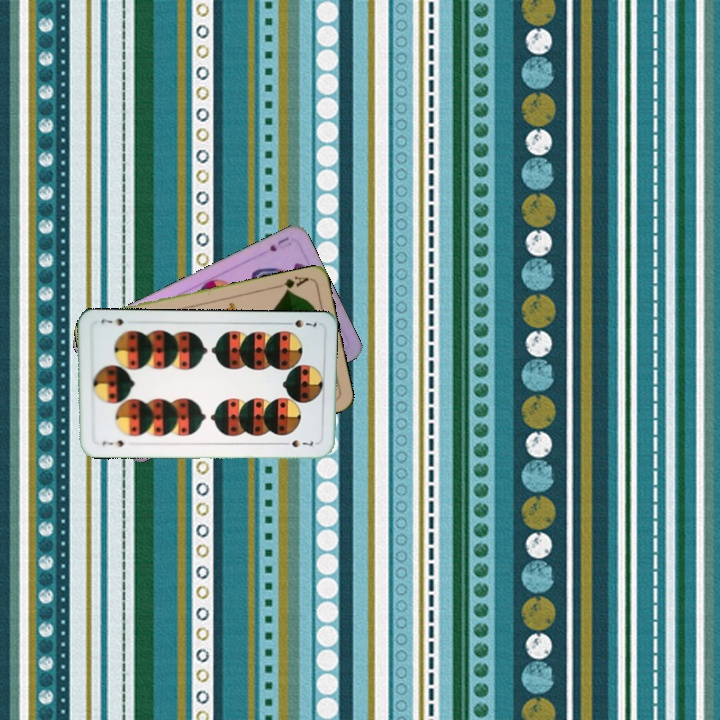GA: (272, 272, 311, 295)
S7: (281, 316, 319, 330), (98, 436, 126, 449)
SU: (265, 233, 291, 254)
